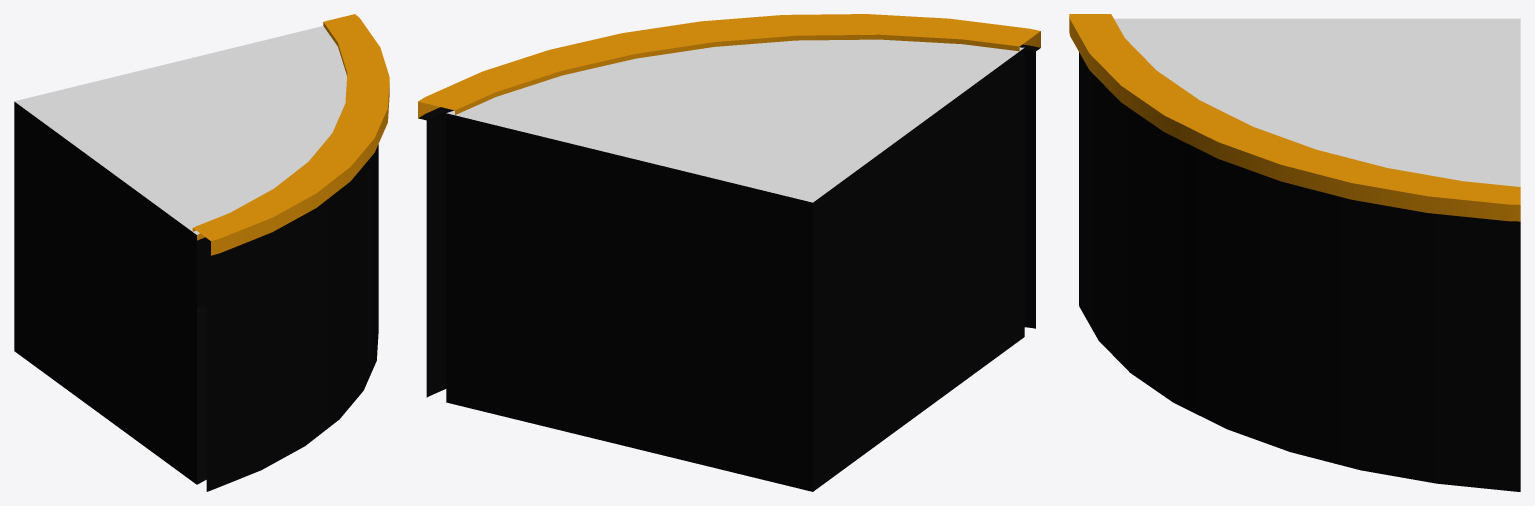
Rendered from OB_CornerOutside_Model.fbx.
3 views of the same model, side by side, from view 1: azimuth 30°, elevation 25°; view 2: azimuth 150°, elevation 25°; view 3: azimuth 270°, elevation 25° (orthographic). The views are drawn at different scales.
Parts seen in each view (by area): view 1: Cube.001, Cube; view 2: Cube.001, Cube; view 3: Cube, Cube.001.
Part boxes in pixels (box(x1,y1,x2,y2)): Cube.001: box(14, 26, 346, 484); Cube: box(192, 14, 389, 491); Cube.001: box(446, 39, 1024, 491); Cube: box(418, 14, 1040, 397); Cube: box(1069, 14, 1520, 491); Cube.001: box(1114, 18, 1520, 186).
Bounding box in the file's own units: 857 × 610 × 857.
